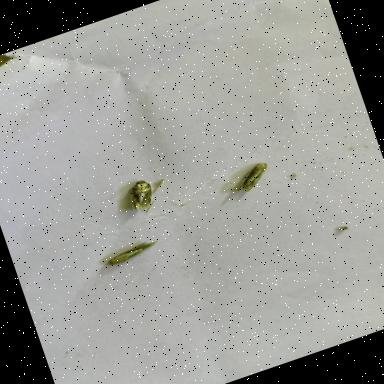pbw: (226, 158, 279, 198), (101, 237, 161, 272), (120, 176, 162, 216)
